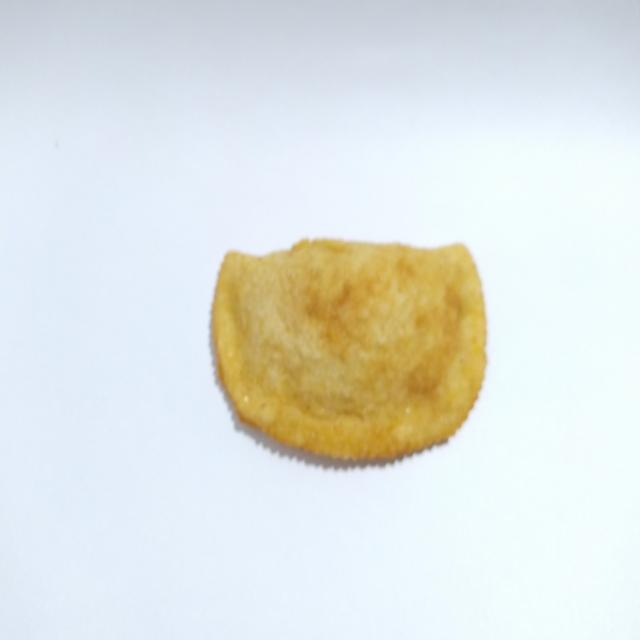Pastel_Mandio: (205, 228, 494, 474)
